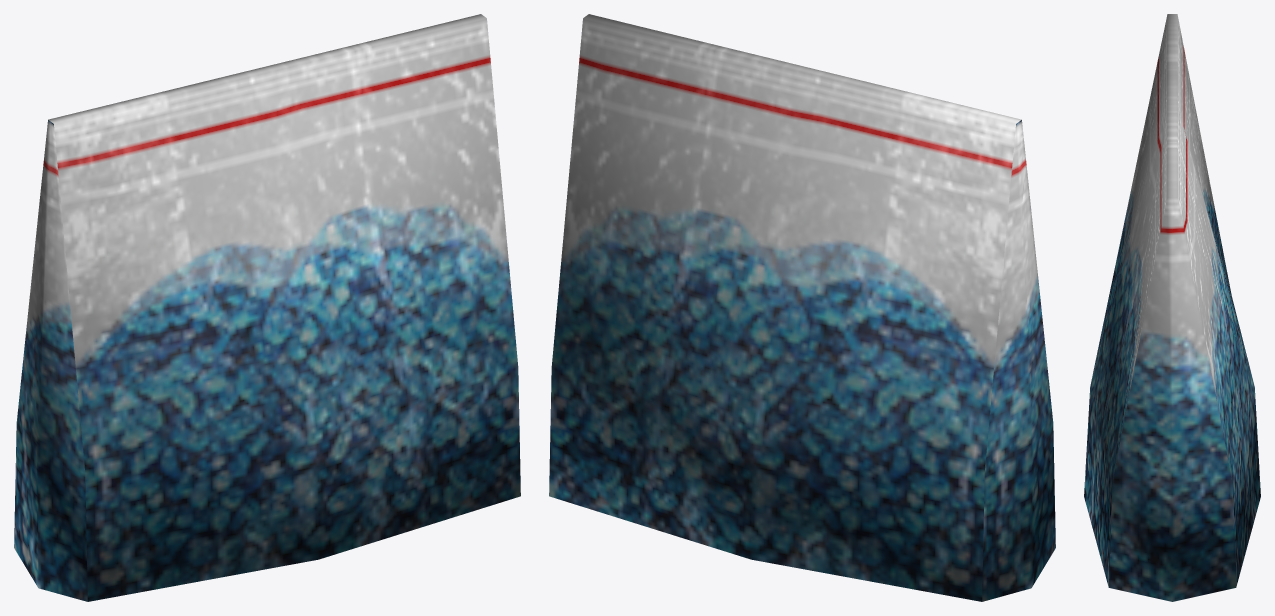
The model's file is MethBag.fbx.
3 views of the same model, side by side, from view 1: azimuth 30°, elevation 25°; view 2: azimuth 150°, elevation 25°; view 3: azimuth 270°, elevation 25° (orthographic). The views are drawn at different scales.
Visible parts, largest first — view 1: Cube; view 2: Cube; view 3: Cube.
Boxes of the visible parts, x1,y1,x2,y2 form: Cube: (14, 14, 520, 601); Cube: (549, 14, 1055, 601); Cube: (1084, 14, 1260, 601).
Bounding box in the file's own units: 0.0717 × 0.0693 × 0.0278.
